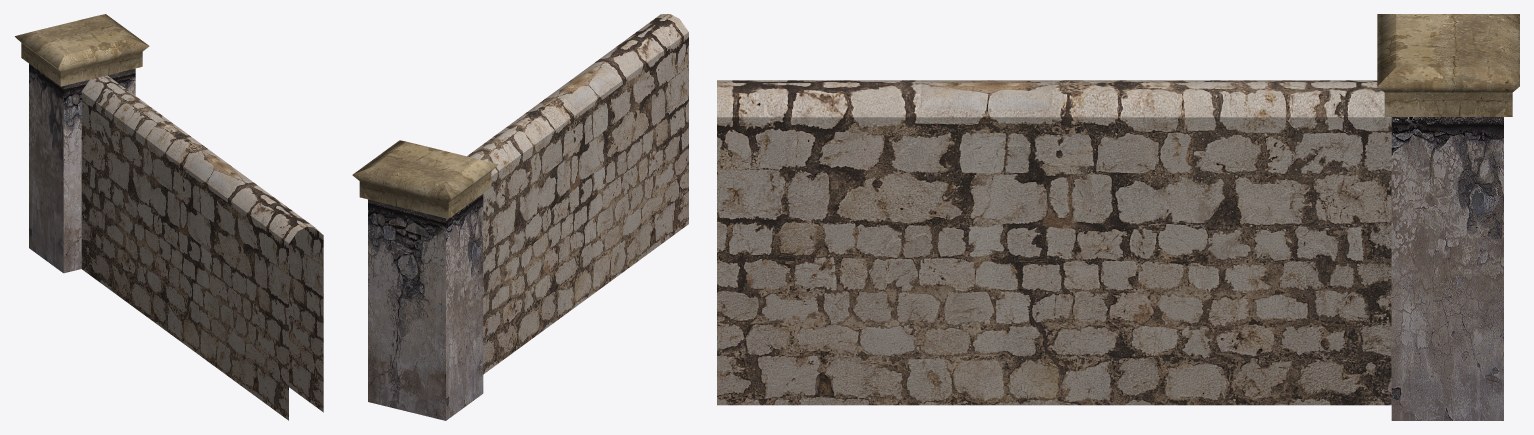
The model's file is Wall_Straight_01_ALT.fbx.
3 views of the same model, side by side, from view 1: azimuth 30°, elevation 25°; view 2: azimuth 150°, elevation 25°; view 3: azimuth 270°, elevation 25° (orthographic). The views are drawn at different scales.
Parts seen in each view (by area): view 1: wall_straight; view 2: wall_straight; view 3: wall_straight.
Boxes of the visible parts, bbox=[...] form: wall_straight: bbox=[15, 14, 323, 420]; wall_straight: bbox=[352, 14, 688, 420]; wall_straight: bbox=[717, 14, 1519, 420].
Size of the model in its own units: 1.53 by 3.45 by 7.14.
